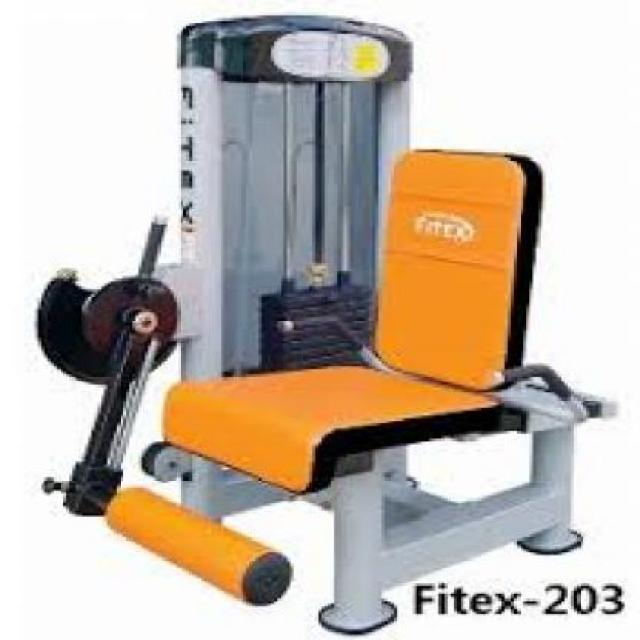leg extension: (15, 4, 624, 640)
